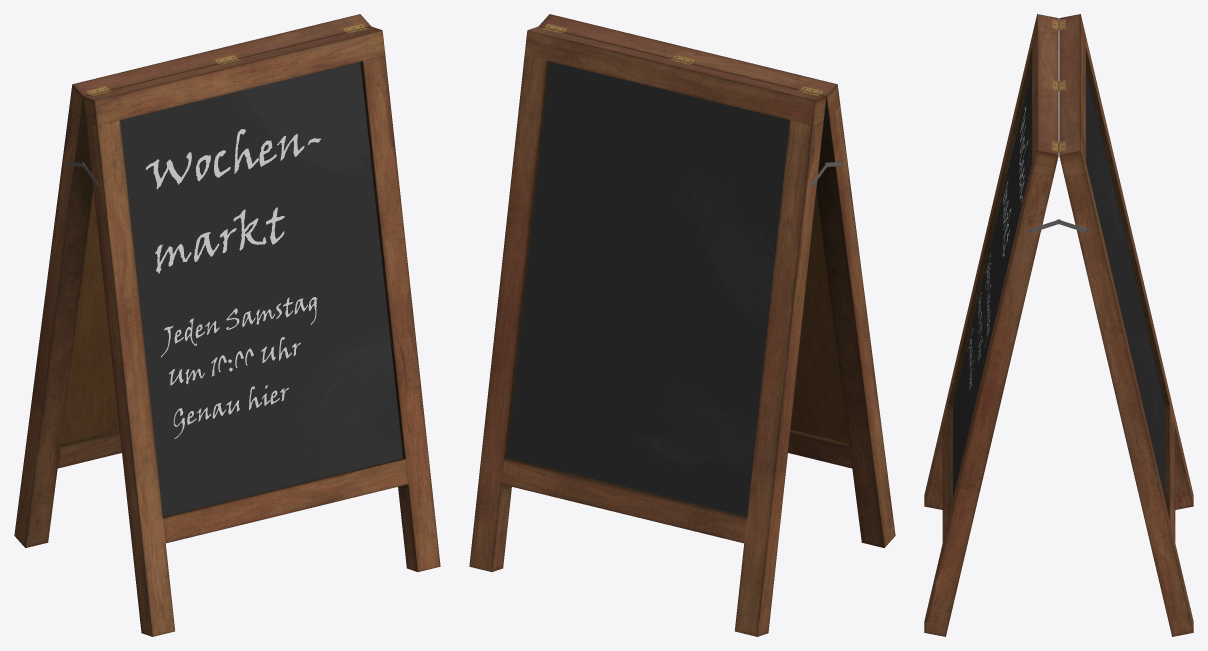
File: sign-vendor.glb
3 views of the same model, side by side, from view 1: azimuth 30°, elevation 25°; view 2: azimuth 150°, elevation 25°; view 3: azimuth 270°, elevation 25° (orthographic). The views are drawn at different scales.
Parts seen in each view (by area): view 1: standing_chalkboard_01.001, Text.002; view 2: standing_chalkboard_01.001; view 3: standing_chalkboard_01.001, Text.002.
Boxes of the visible parts, bbox=[...] form: standing_chalkboard_01.001: bbox=[14, 14, 440, 636]; Text.002: bbox=[145, 129, 320, 438]; standing_chalkboard_01.001: bbox=[469, 14, 895, 636]; standing_chalkboard_01.001: bbox=[924, 14, 1193, 636]; Text.002: bbox=[967, 107, 1028, 390].
Bounding box in the file's own units: 0.9195 × 1.51 × 0.7587.
2 materials, 2 textured.
